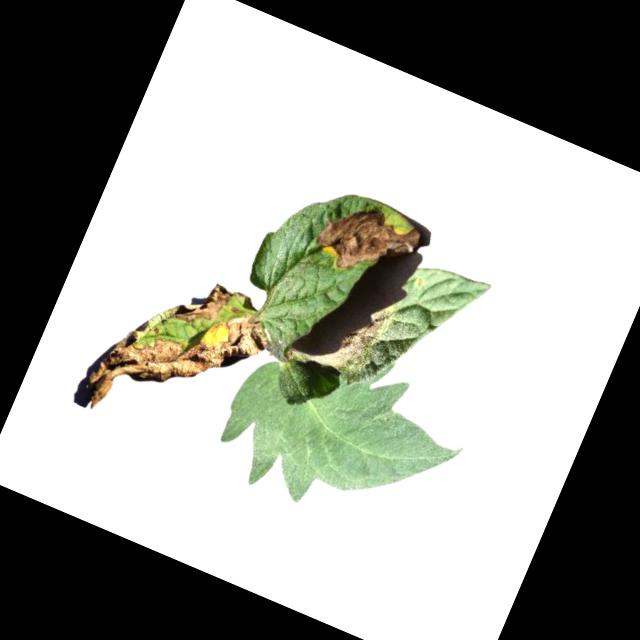Late_blight: (73, 248, 281, 462), (290, 263, 401, 384), (305, 190, 426, 294)
healthy: (204, 321, 480, 556)
